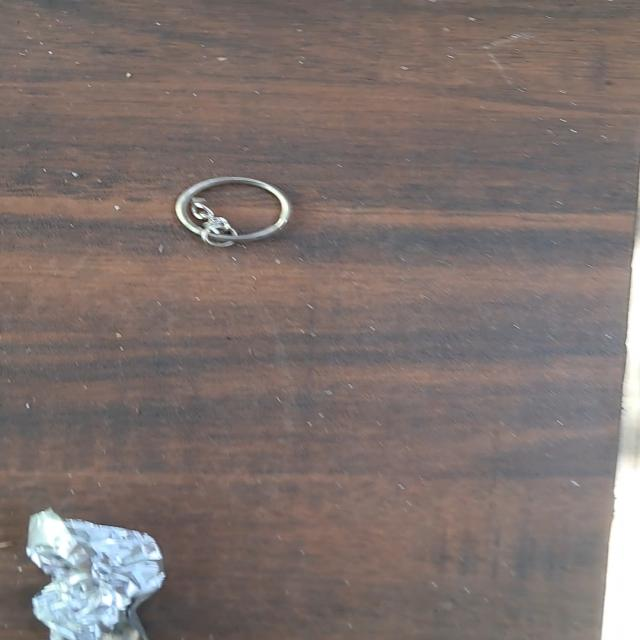Anorganik: (157, 162, 311, 253)
